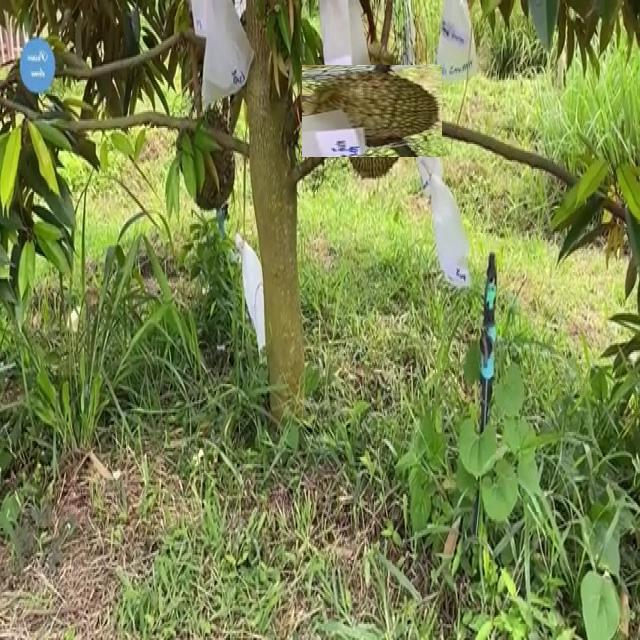durian: (314, 53, 430, 170), (171, 103, 242, 220)
